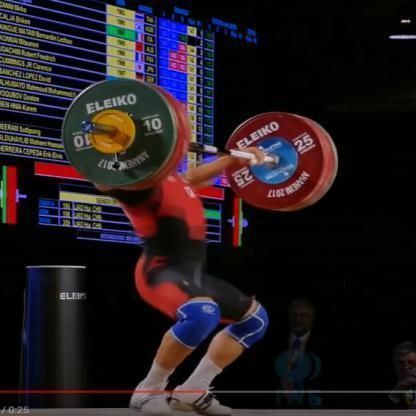barbell: (63, 77, 338, 210)
